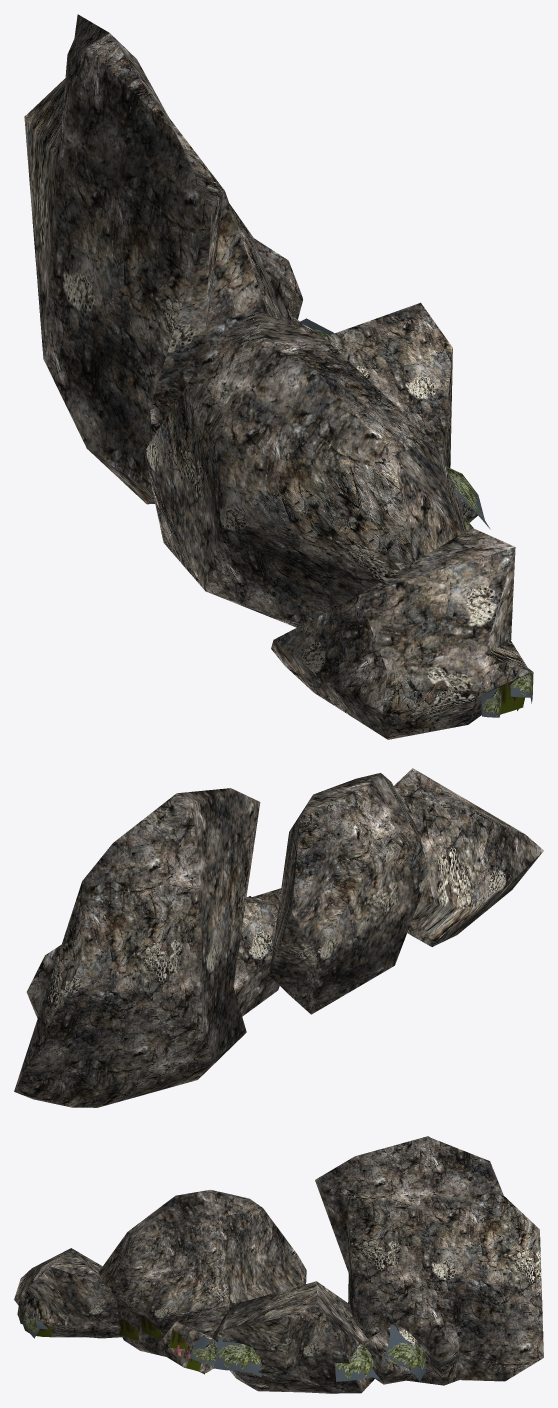
File: pir_m_prp_dvj_rockGroup_c.fbx
3 renders of one model, top to bottom at view 1: azimuth 30°, elevation 25°; view 2: azimuth 150°, elevation 25°; view 3: azimuth 270°, elevation 25°, orthographic. The views are drawn at different scales.
Visible parts, largest first — view 1: rock_4, rock_5, rock_0, rock_3; view 2: rock_4, rock_5, rock_0, rock_3; view 3: rock_4, rock_5, rock_3, rock_0, rock_1, seaweed17, seaweed20, rock_2, seaweed16, seaweed1.
Part boxes in pixels (left/top/right/bottom): rock_4: left=24, top=14, right=302, bottom=504; rock_5: left=144, top=309, right=466, bottom=627; rock_0: left=271, top=528, right=530, bottom=739; rock_3: left=321, top=302, right=477, bottom=522; rock_4: left=14, top=788, right=260, bottom=1107; rock_5: left=269, top=773, right=429, bottom=1014; rock_0: left=394, top=768, right=543, bottom=946; rock_3: left=233, top=897, right=279, bottom=1016; rock_4: left=315, top=1136, right=543, bottom=1385; rock_5: left=98, top=1189, right=306, bottom=1356; rock_3: left=211, top=1281, right=374, bottom=1393; rock_0: left=14, top=1248, right=121, bottom=1338; rock_1: left=362, top=1324, right=427, bottom=1384; seaweed17: left=213, top=1338, right=261, bottom=1376; seaweed20: left=382, top=1324, right=426, bottom=1381; rock_2: left=163, top=1321, right=215, bottom=1373; seaweed16: left=334, top=1342, right=379, bottom=1381; seaweed1: left=189, top=1336, right=217, bottom=1365.
Size of the model in its own units: 2539 by 2988 by 6421.
3 materials, 3 textured.
